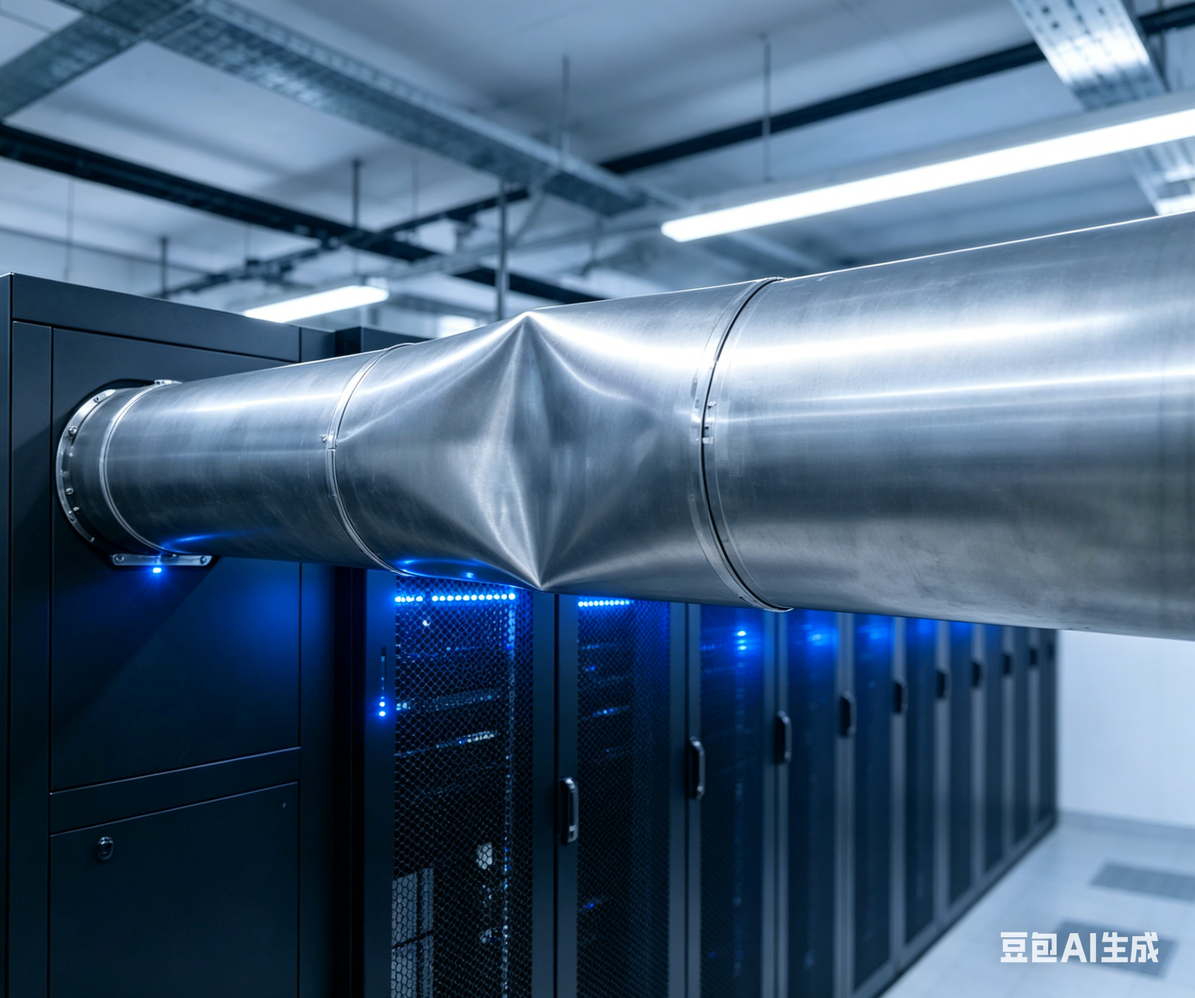Leakage: (414, 316, 663, 593)
